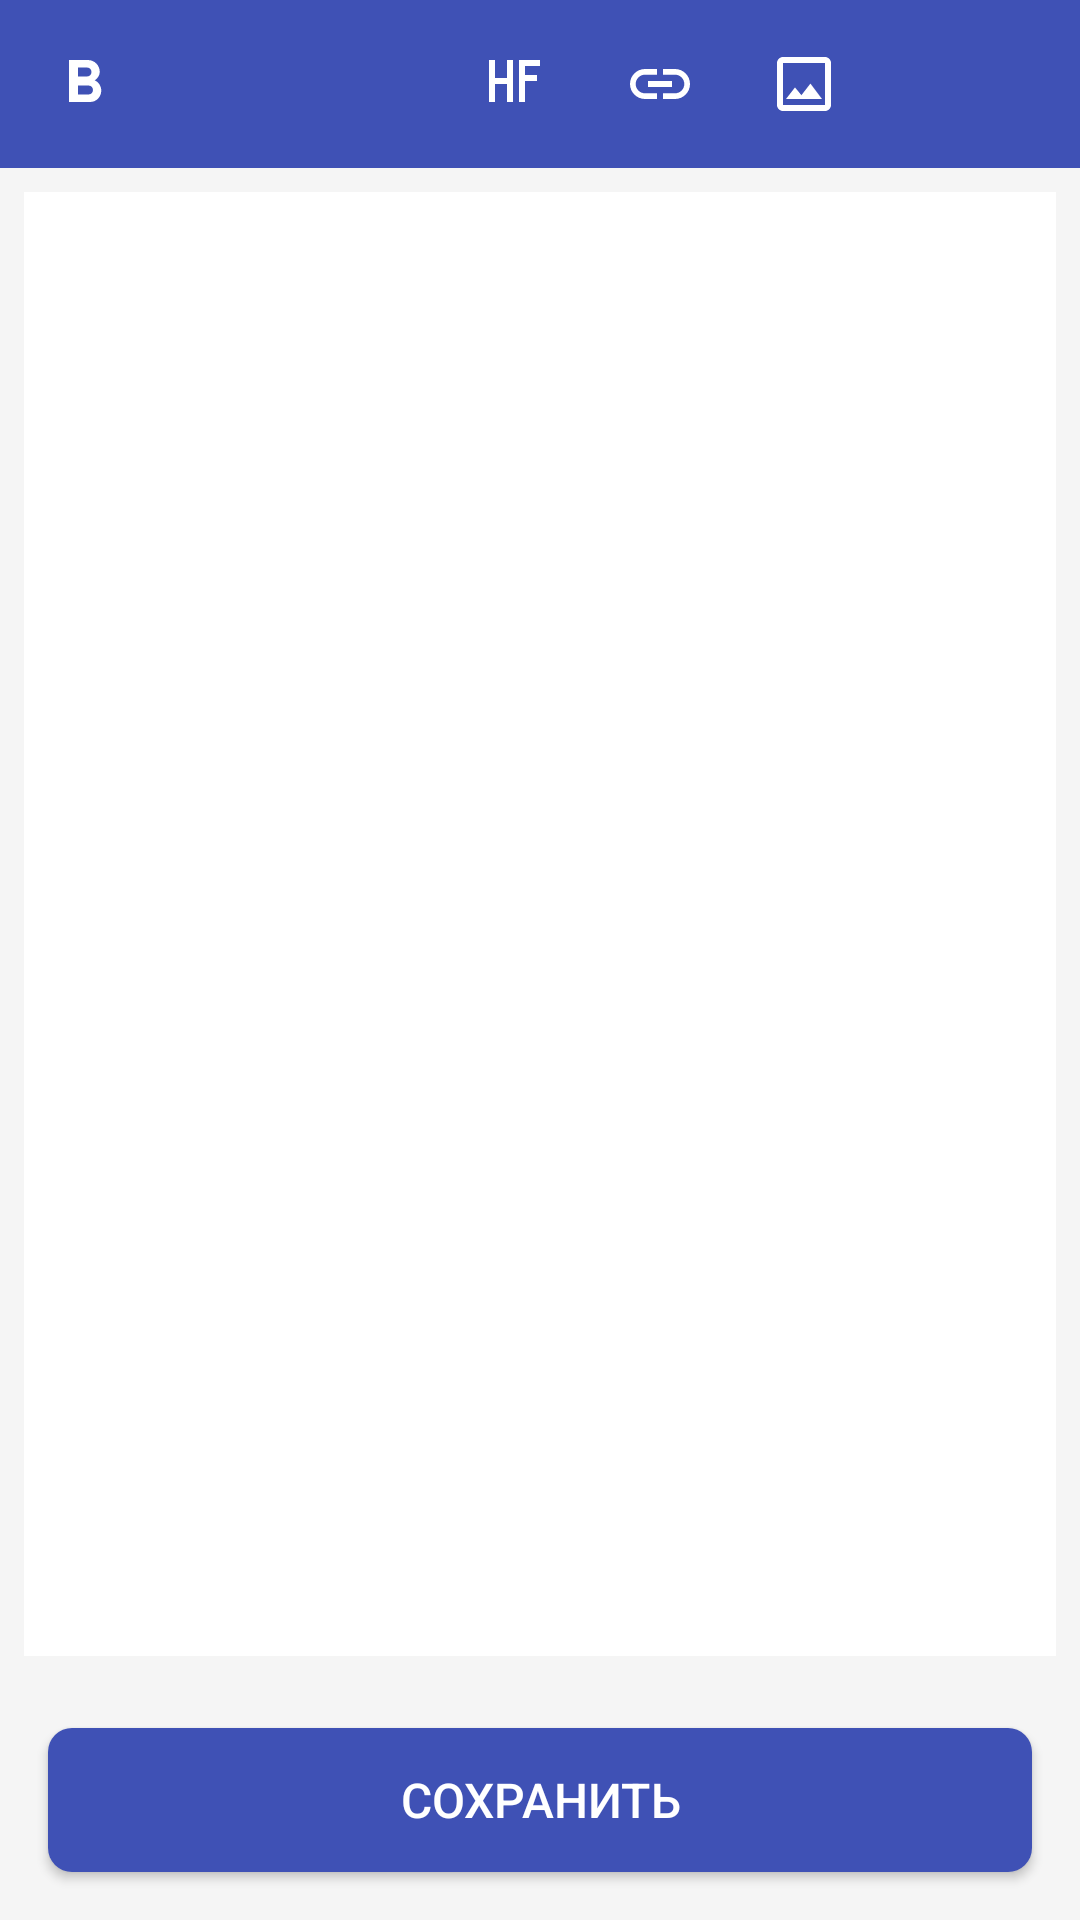

Named icons in this screenshot (1080 x 1920) and their centers, (x=x, y=y):
Жирный: (x=85, y=81)
Изображение: (x=804, y=84)
Ссылка: (x=660, y=84)
